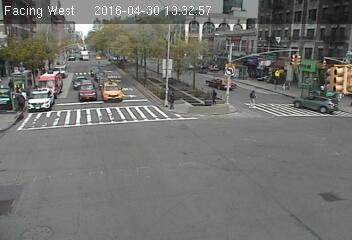neg: (164, 130, 184, 157), (7, 32, 26, 57), (1, 194, 19, 218), (237, 19, 255, 42), (60, 163, 77, 186), (39, 17, 56, 39), (187, 24, 202, 44), (116, 17, 130, 36), (103, 159, 116, 177), (110, 51, 123, 68), (159, 56, 172, 72), (114, 83, 126, 100), (315, 188, 327, 205), (188, 60, 200, 76), (76, 44, 88, 59), (89, 77, 100, 93), (118, 123, 128, 137), (231, 59, 241, 73), (47, 95, 57, 107), (332, 71, 341, 84), (285, 19, 292, 29)
pos: (242, 86, 260, 110), (206, 86, 220, 105), (164, 90, 178, 108)
